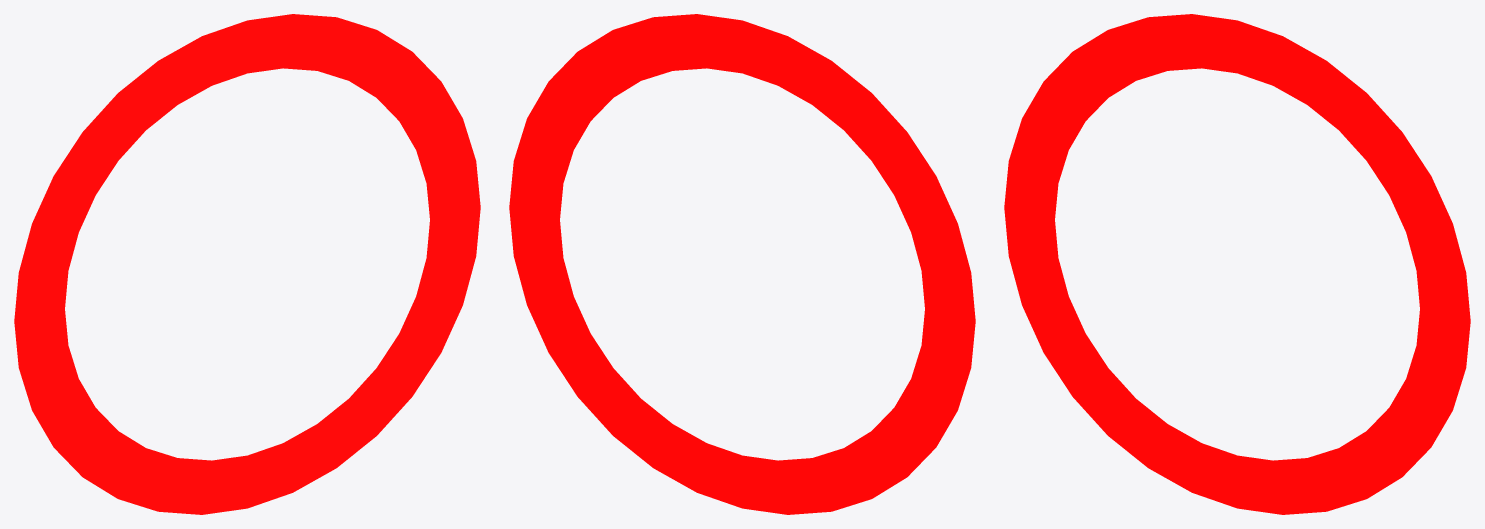
Rendered from t_emission.dae.
3 views of the same model, side by side, from view 1: azimuth 30°, elevation 25°; view 2: azimuth 150°, elevation 25°; view 3: azimuth 330°, elevation 25° (orthographic).
Bounding box in the file's own units: 46 × 46 × 0.
